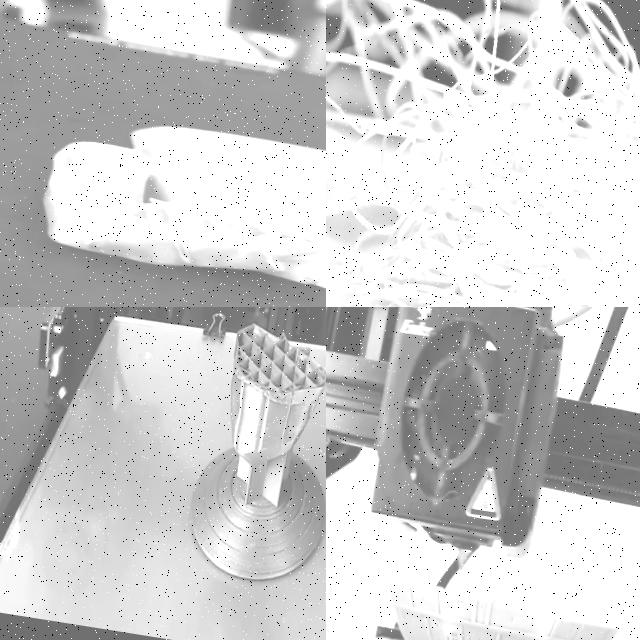spaghetti: (326, 0, 640, 307)
